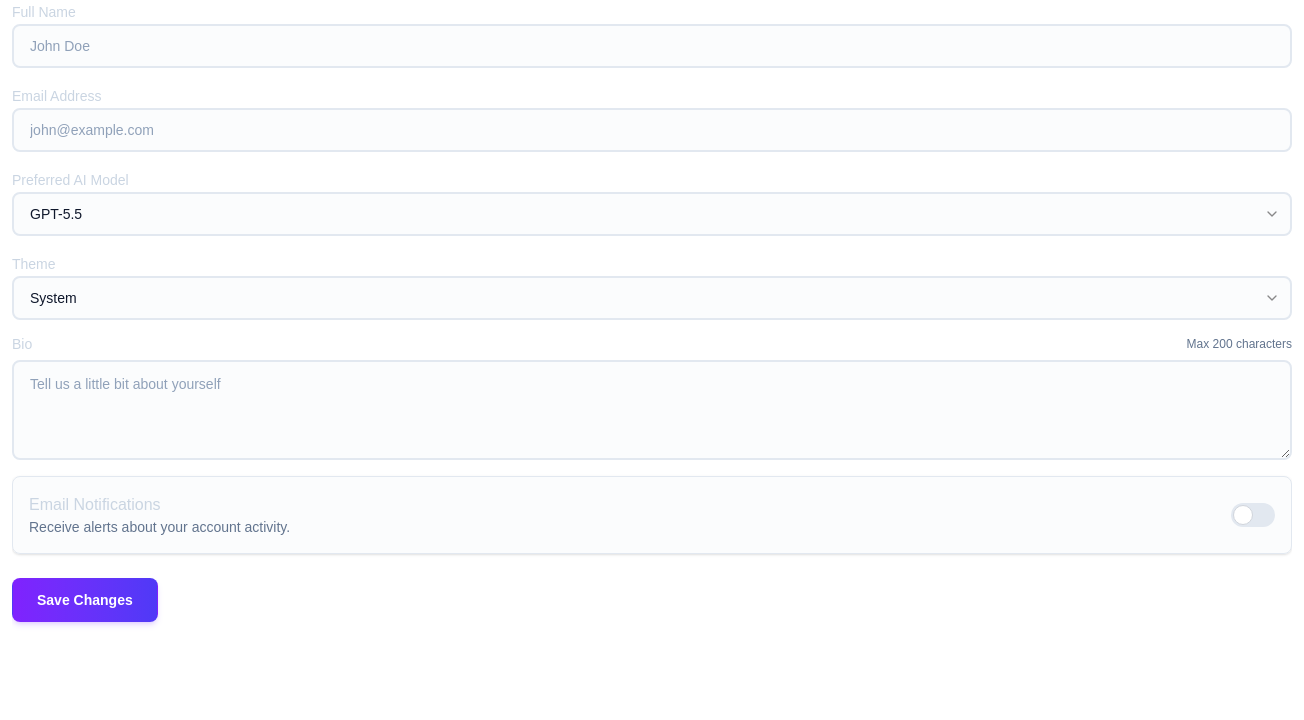
UserSettingsForm › shows validation errors for empty required fields on submit
Click the button "Save Changes": (85, 600) [12,578,158,622]
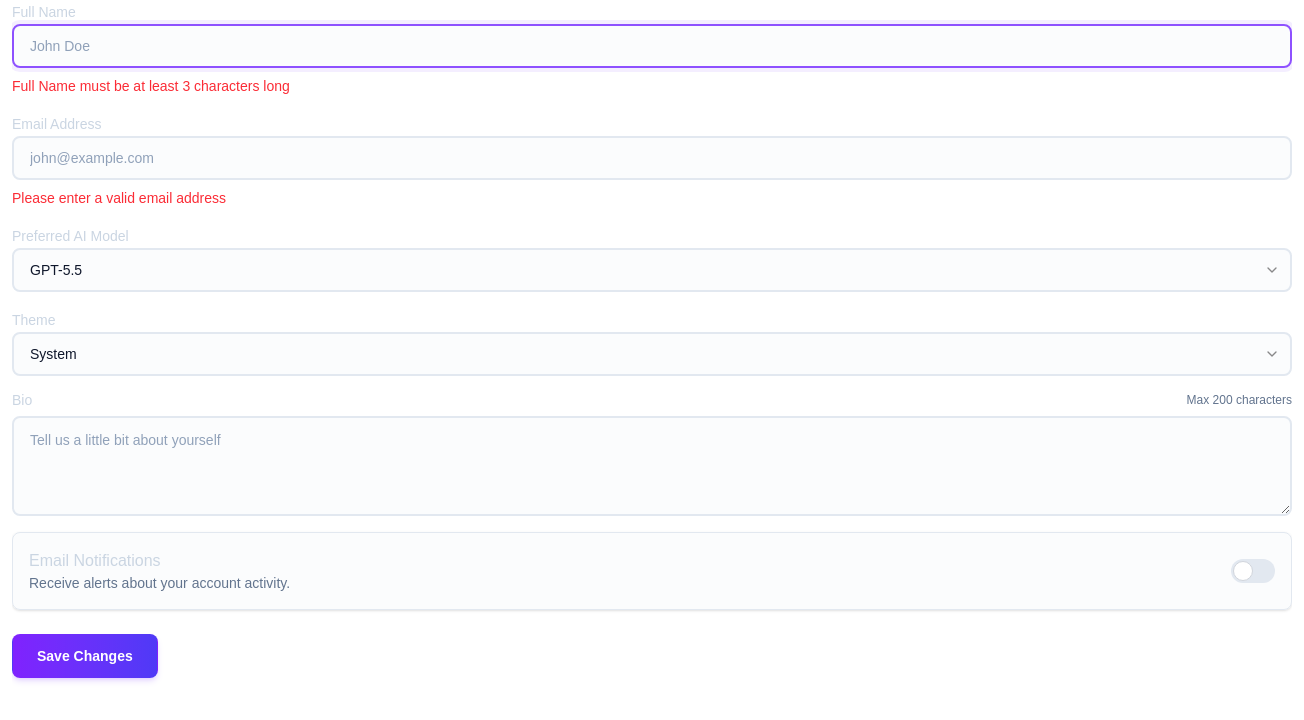
Expected: the text "Full Name must be at least 3 characters long" is shown, [12,78,290,94]
Expected: the text "Please enter a valid email address" is shown, [12,190,226,206]
